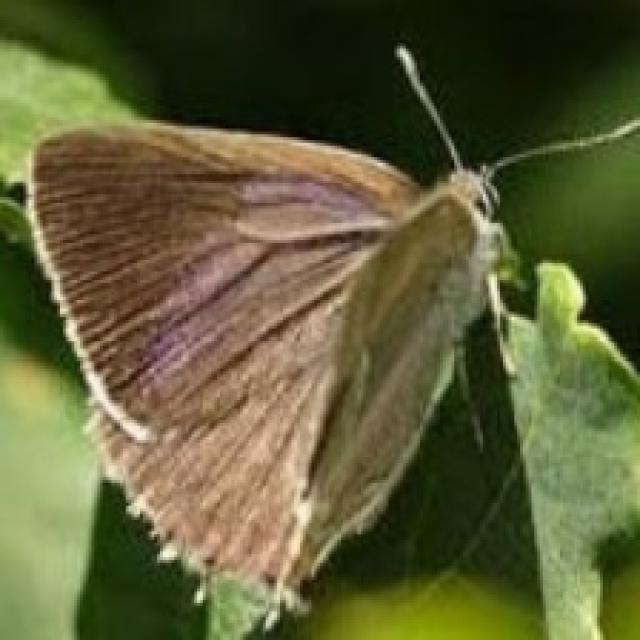butterfly: (23, 40, 637, 631)
